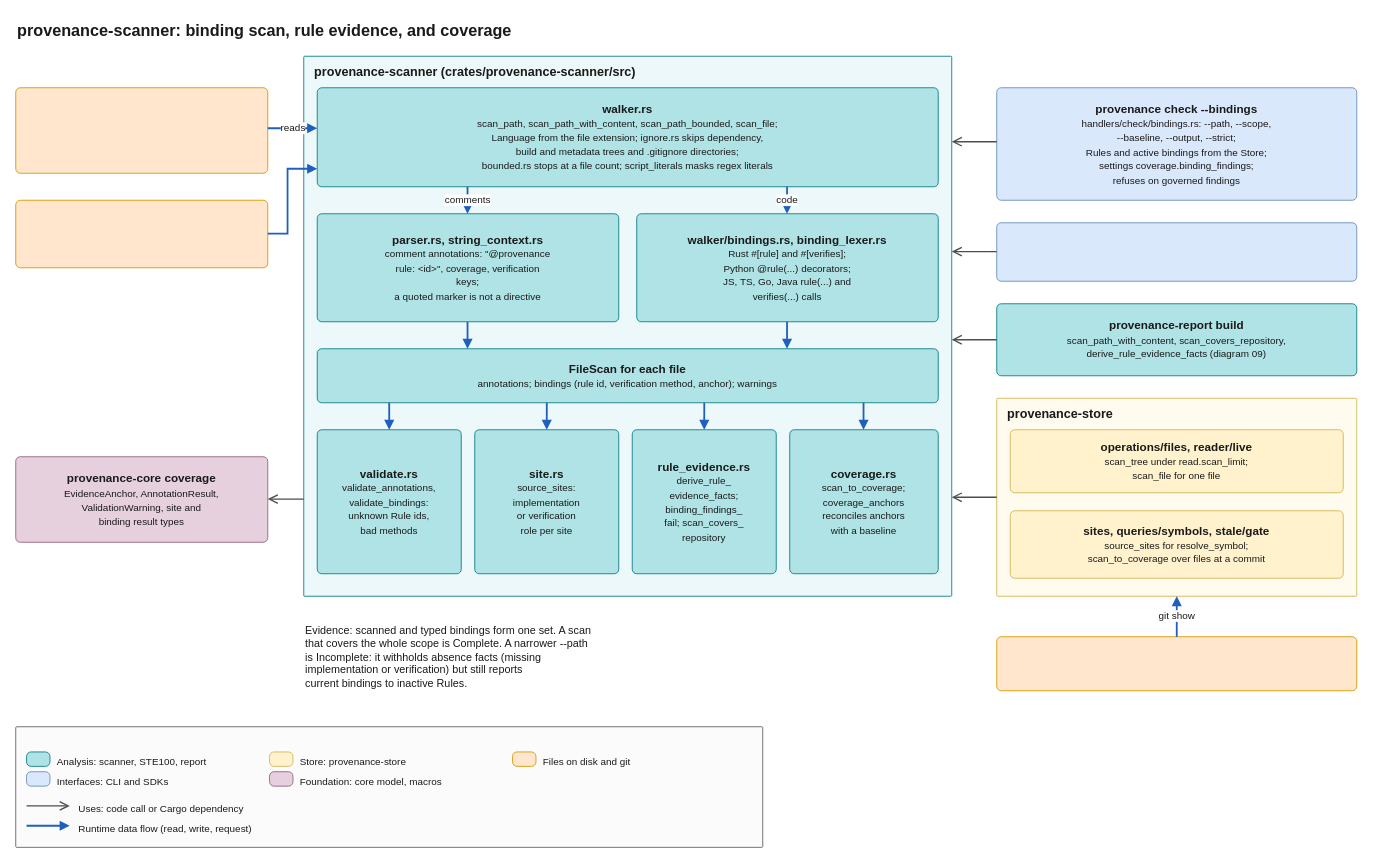
The diagram is 1373 pixels wide and 863 high, and some of its shapes have lost their labels. The shapes that lost their labels are listed below. From the top down, each one's box as (x1, y1, x2, y2) in pixels, then its label:
(15, 87, 268, 173): Source files working tree under --path; .rs .py .js .jsx .ts .tsx .java .go
(15, 199, 268, 268): .gitignore files of the scanned root and of directories below it
(996, 222, 1357, 281): provenance check --bindings handlers/check.rs: missing code bindings
(996, 636, 1357, 691): Git commits file content at base and head
(15, 726, 763, 847): Legend
